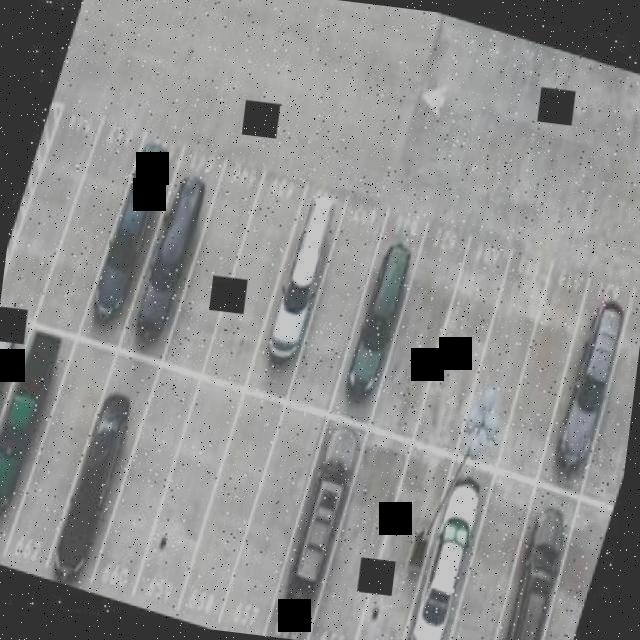car: (252, 196, 340, 381), (339, 228, 419, 410), (401, 475, 482, 640), (278, 448, 356, 616), (126, 184, 204, 342), (59, 393, 131, 564), (98, 137, 168, 306), (491, 501, 567, 640), (0, 340, 58, 496), (0, 333, 13, 487)
free: (543, 287, 626, 463), (4, 122, 84, 302), (101, 412, 176, 584), (212, 194, 292, 353), (228, 448, 302, 611), (188, 444, 262, 604), (149, 422, 220, 582), (446, 489, 522, 636), (50, 156, 121, 309), (384, 254, 454, 407), (27, 382, 96, 537), (460, 288, 528, 442), (330, 468, 396, 616), (365, 486, 432, 630), (516, 297, 578, 449), (182, 185, 243, 322), (299, 244, 363, 374), (591, 322, 640, 465), (533, 538, 599, 640), (432, 277, 485, 393)
